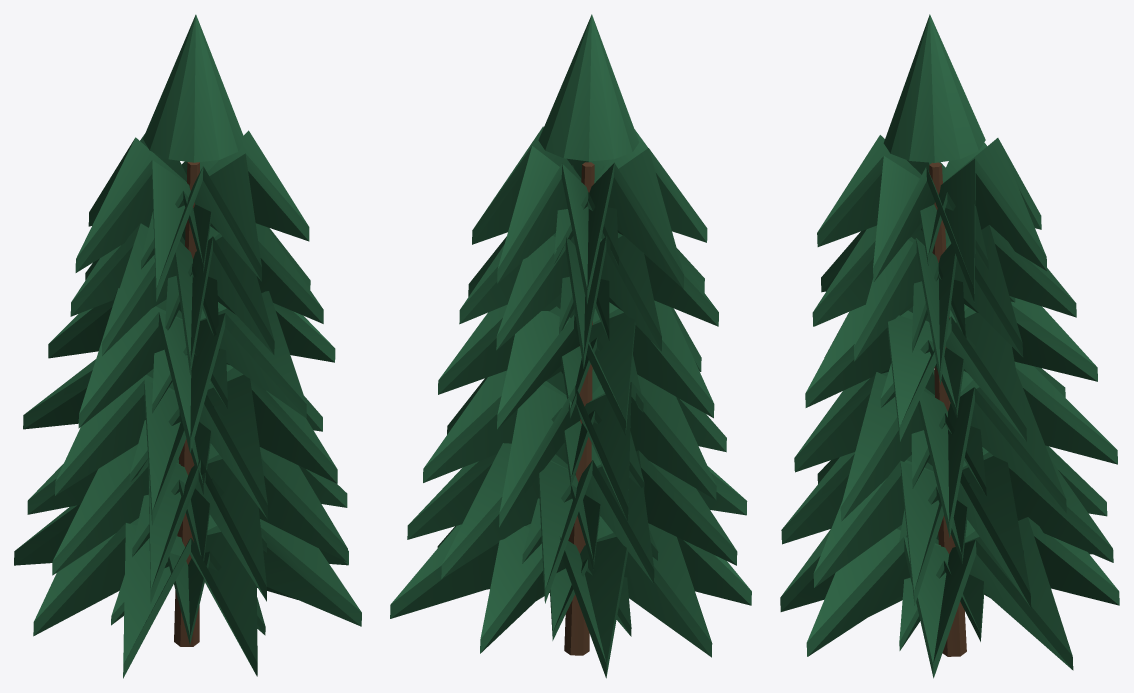
The model's file is tree_pine_b_medium.glb.
3 views of the same model, side by side, from view 1: azimuth 30°, elevation 25°; view 2: azimuth 150°, elevation 25°; view 3: azimuth 270°, elevation 25° (orthographic).
Parts seen in each view (by area): view 1: Canopy, Trunk; view 2: Canopy, Trunk; view 3: Canopy, Trunk.
Part boxes in pixels (left/top/right/bottom): Canopy: left=14, top=14, right=361, bottom=678; Trunk: left=174, top=162, right=199, bottom=646; Canopy: left=390, top=14, right=751, bottom=678; Trunk: left=564, top=162, right=594, bottom=655; Canopy: left=780, top=14, right=1119, bottom=678; Trunk: left=929, top=162, right=966, bottom=656.
Size of the model in its own units: 5.42 by 11 by 5.31.
1 material, 1 textured.
